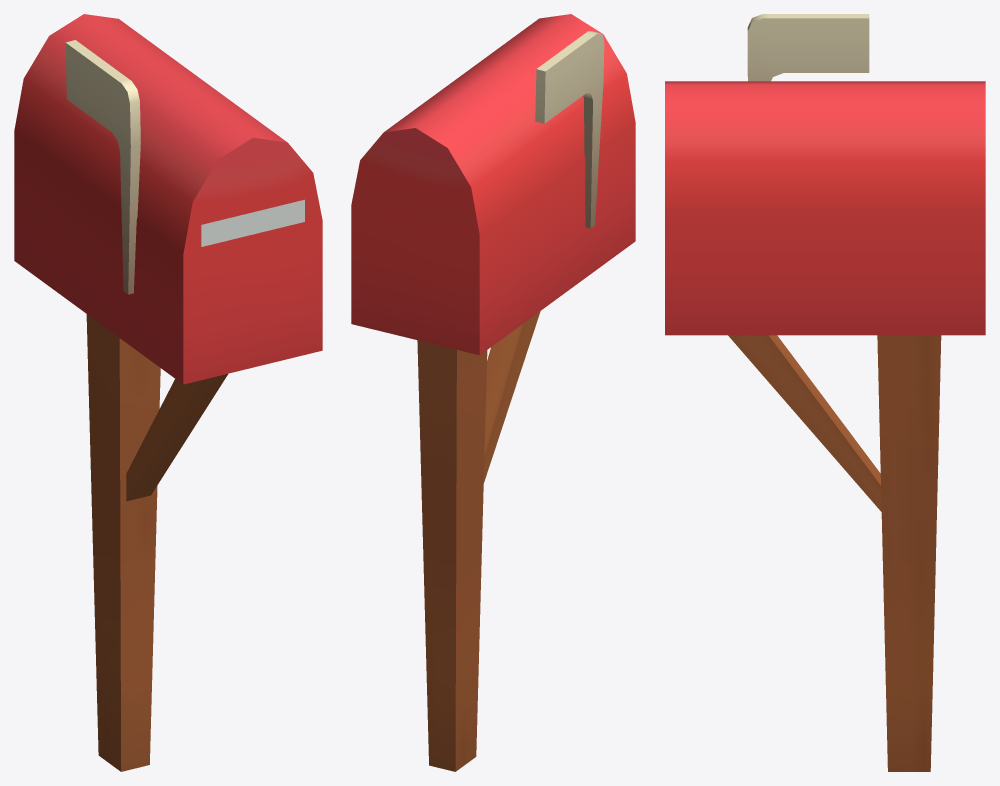
File: Mailbox.fbx
3 views of the same model, side by side, from view 1: azimuth 30°, elevation 25°; view 2: azimuth 150°, elevation 25°; view 3: azimuth 270°, elevation 25° (orthographic). The views are drawn at different scales.
Visible parts, largest first — view 1: Mailbox; view 2: Mailbox; view 3: Mailbox.
Part boxes in pixels (x1,y1,x2,y2): Mailbox: (14, 14, 322, 771); Mailbox: (351, 14, 635, 771); Mailbox: (665, 14, 985, 771).
Size of the model in its own units: 28.97 by 140 by 56.86.
